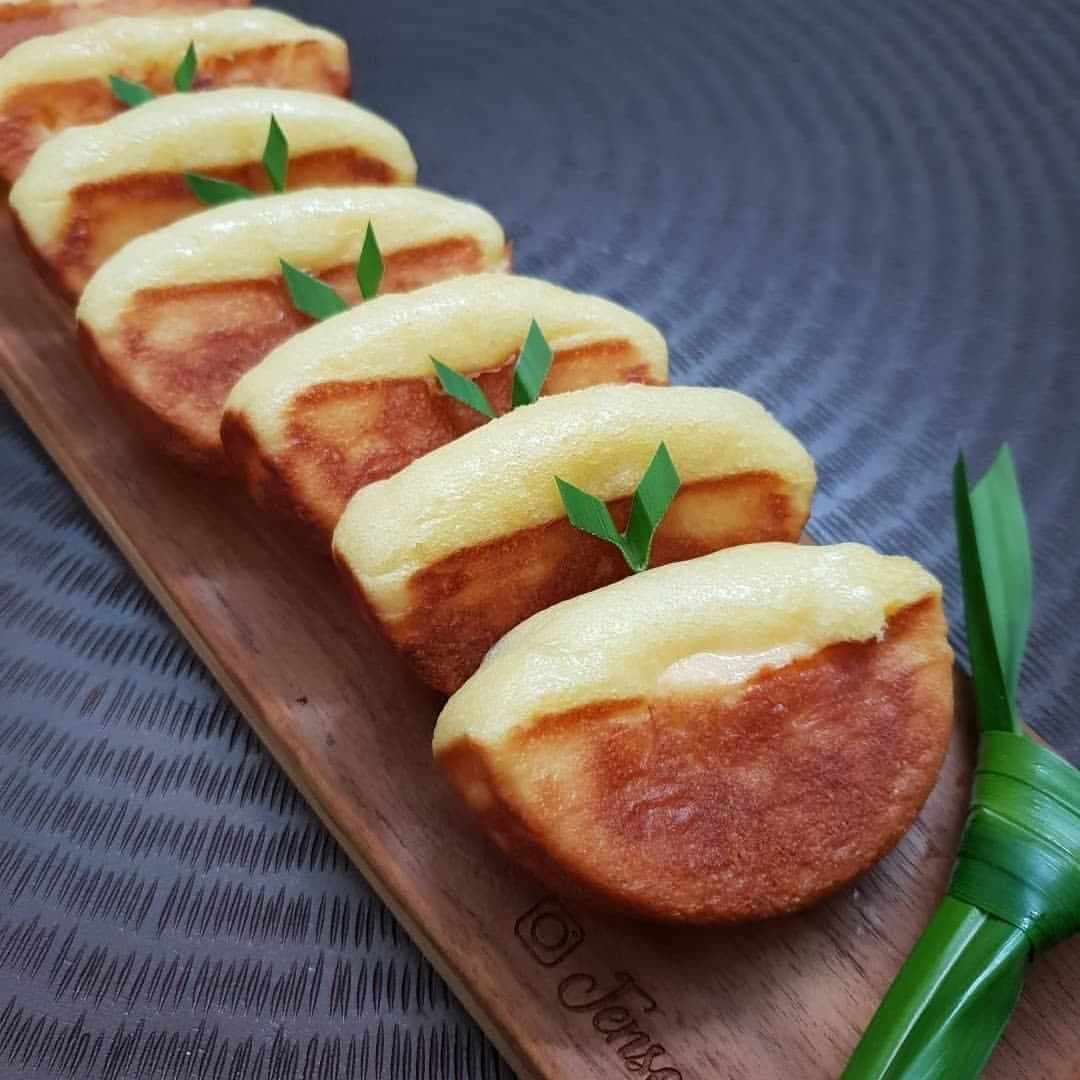pukis: (427, 547, 994, 954)
